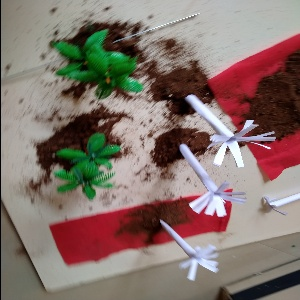plant: (50, 29, 145, 97), (71, 126, 120, 206)
weed: (181, 91, 275, 166), (174, 143, 247, 216), (156, 214, 228, 279), (249, 176, 300, 215)
